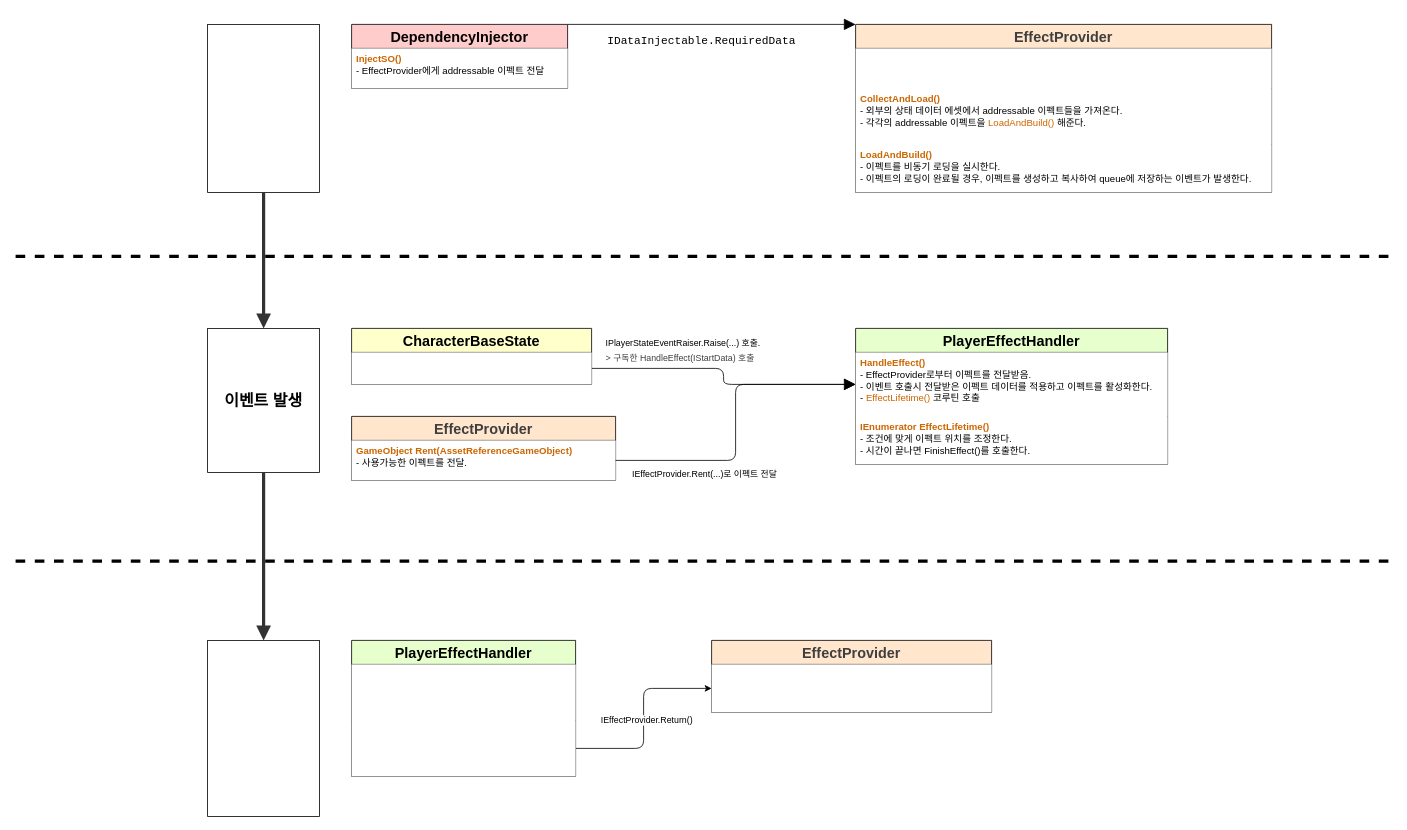
Image size: 1407x830. Some labels were removed from this diagram. The centre of each missing label's shape, as x and y in pixels:
"Awake() - CollectAndLoad() 호출" goes at point 1063,68.
"FinishEffect() - 진행 추적 목록에서 빼고, - EffectProvider.Return()으로 이펙트를 반납한다." goes at point 463,748.
"HandleReset() - 상태가 바뀌면 호출된다. - '끝까지 재생'이 아닌 이펙트만 즉시 FinishEffect()로 종료한다." goes at point 463,692.
"Return() - 반납받은 이펙트를 끄고, - 보관함(queue)에 다시 넣어 재사용한다." goes at point 851,688.
"UpdateState() - 애니메이션 진행에 맞춰 이펙트 이벤트를 호출(Raise)한다." goes at point 471,368.
"이펙트 처리 및 이펙트 재활용" goes at point 263,728.
"초기 이펙트 준비" goes at point 263,108.
